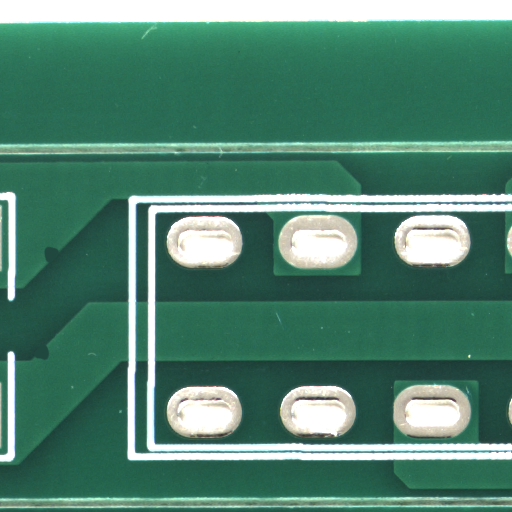Mouse_bite: (42, 352, 58, 367), (52, 255, 67, 270)
